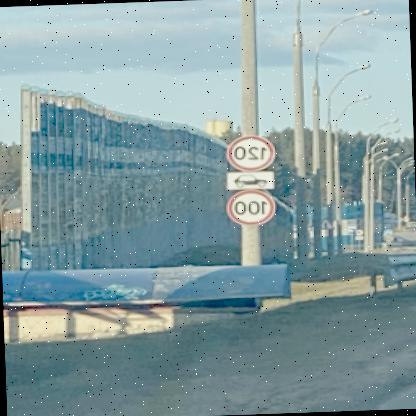speedlimit: (228, 134, 277, 172), (230, 188, 279, 226)
